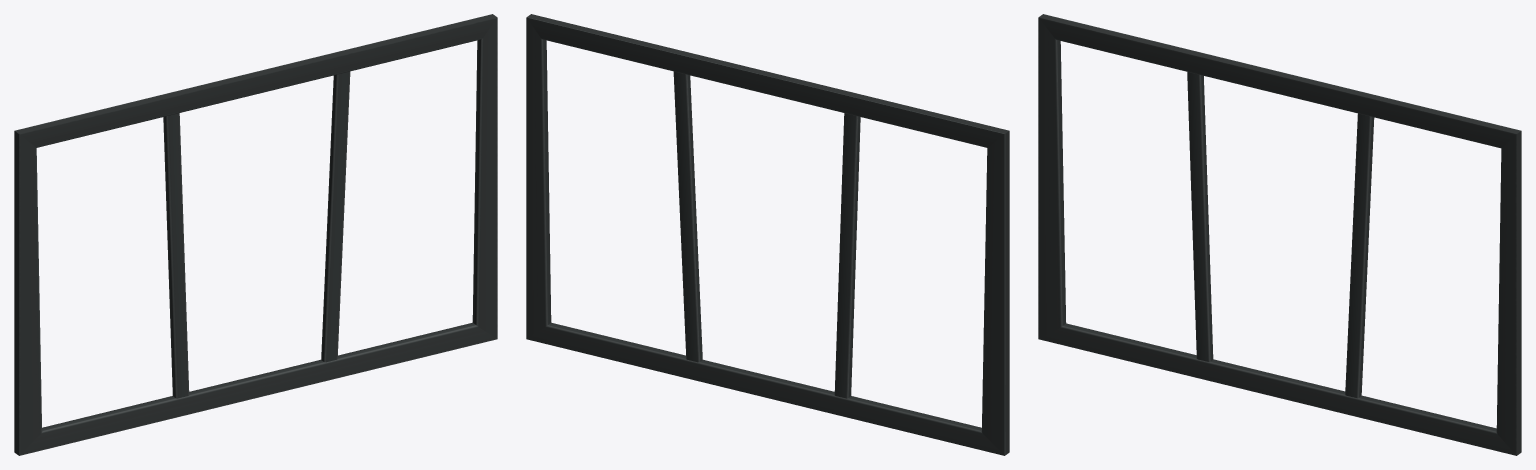
Rendered from PropWindow02TypeJ_2.FBX.
3 views of the same model, side by side, from view 1: azimuth 30°, elevation 25°; view 2: azimuth 150°, elevation 25°; view 3: azimuth 330°, elevation 25° (orthographic).
Visible parts, largest first — view 1: PropWindow02TypeJ_2; view 2: PropWindow02TypeJ_2; view 3: PropWindow02TypeJ_2.
Part boxes in pixels (box(x1,y1,x2,y2)): PropWindow02TypeJ_2: box(14, 14, 497, 455); PropWindow02TypeJ_2: box(526, 14, 1009, 455); PropWindow02TypeJ_2: box(1038, 14, 1521, 455).
Size of what is drawn, in the model's own units: 3.5 by 2.25 by 0.06.
